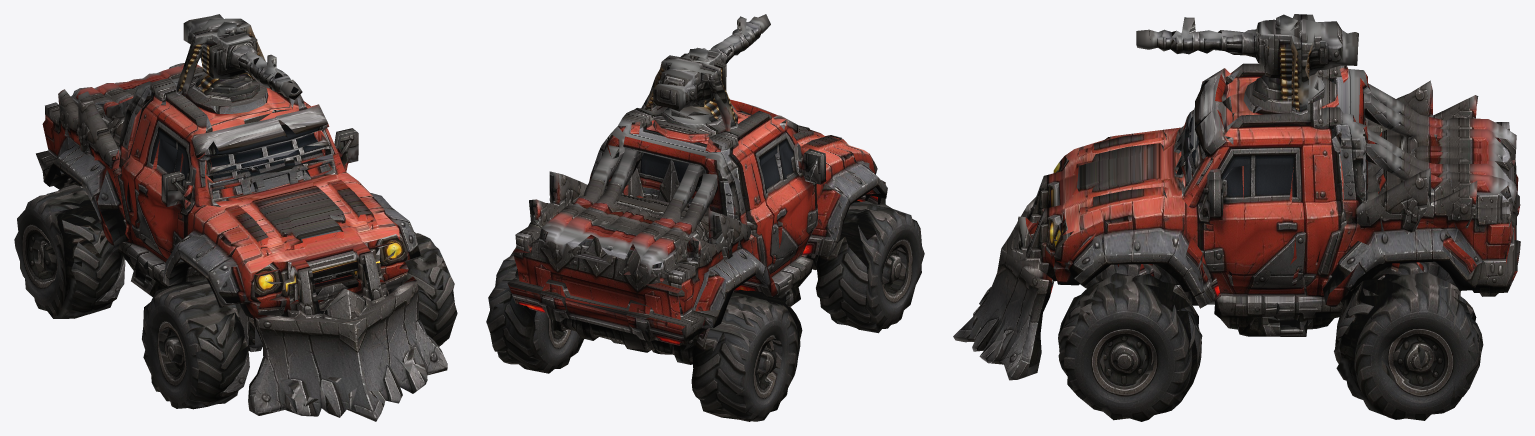
Rendered from truck.glb.
3 views of the same model, side by side, from view 1: azimuth 30°, elevation 25°; view 2: azimuth 150°, elevation 25°; view 3: azimuth 270°, elevation 25° (orthographic). The views are drawn at different scales.
Visible parts, largest first — view 1: world; view 2: world; view 3: world.
Part boxes in pixels (<box>): world: <box>14,14,457,421</box>; world: <box>486,14,924,421</box>; world: <box>953,14,1520,421</box>.
Bounding box in the file's own units: 2.84 × 3.1 × 4.72.
1 material, 1 textured.
